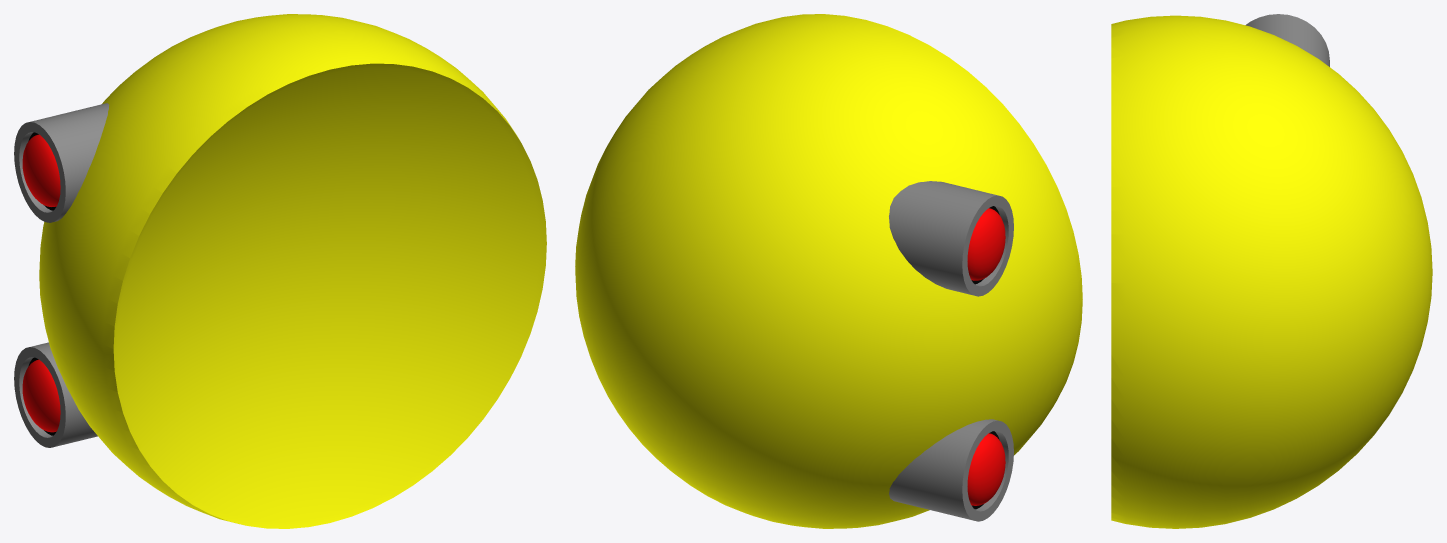
Rendered from Player_head.fbx.
3 views of the same model, side by side, from view 1: azimuth 30°, elevation 25°; view 2: azimuth 150°, elevation 25°; view 3: azimuth 270°, elevation 25° (orthographic).
Visible parts, largest first — view 1: Head; view 2: Head; view 3: Head.
Boxes of the visible parts, bbox=[...] form: Head: bbox=[14, 14, 546, 528]; Head: bbox=[575, 14, 1082, 528]; Head: bbox=[1111, 14, 1432, 528].
Size of the model in its own units: 0.3126 by 0.5 by 0.5.
